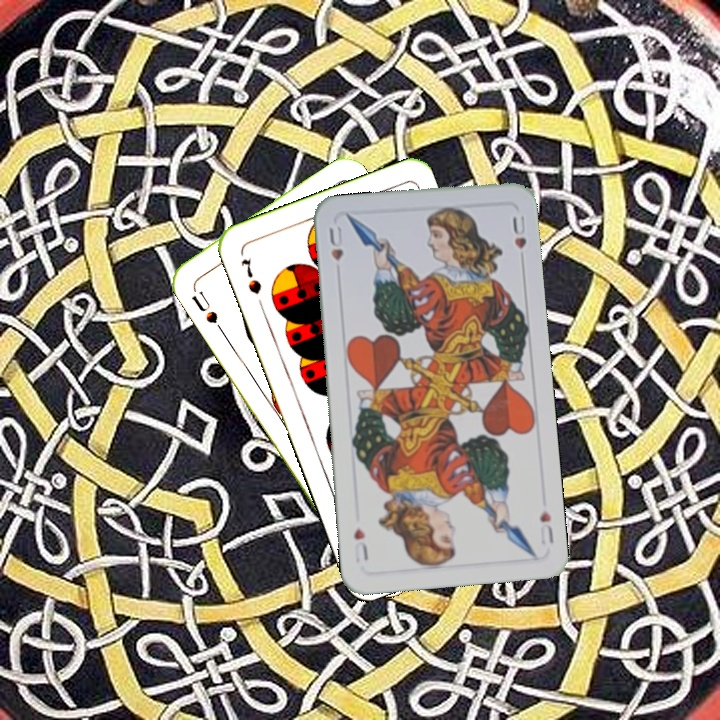HU: (325, 222, 346, 264), (535, 506, 556, 548)
S7: (236, 254, 264, 297)
SU: (187, 287, 221, 326)
